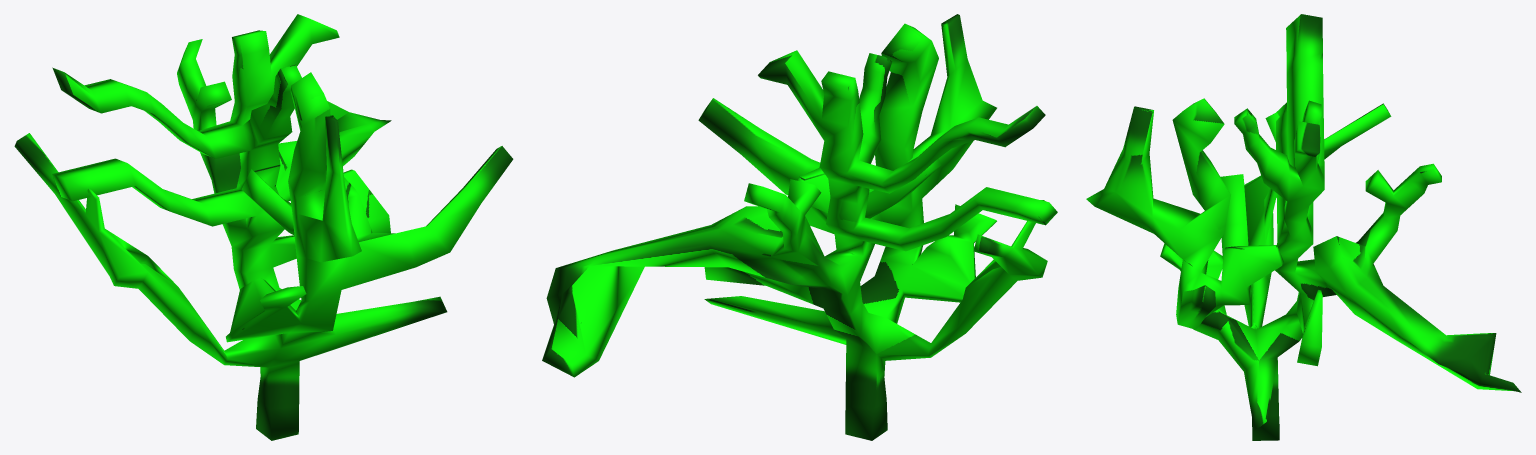
Rendered from plante1.fbx.
3 views of the same model, side by side, from view 1: azimuth 30°, elevation 25°; view 2: azimuth 150°, elevation 25°; view 3: azimuth 270°, elevation 25° (orthographic). The views are drawn at different scales.
Visible parts, largest first — view 1: Cube.001; view 2: Cube.001; view 3: Cube.001.
Part boxes in pixels (x1,y1,x2,y2): Cube.001: (14,14,513,440); Cube.001: (542,14,1057,440); Cube.001: (1086,14,1521,440).
Bounding box in the file's own units: 3037 × 2754 × 3202.
Materials: 1 (1 with a texture image).
